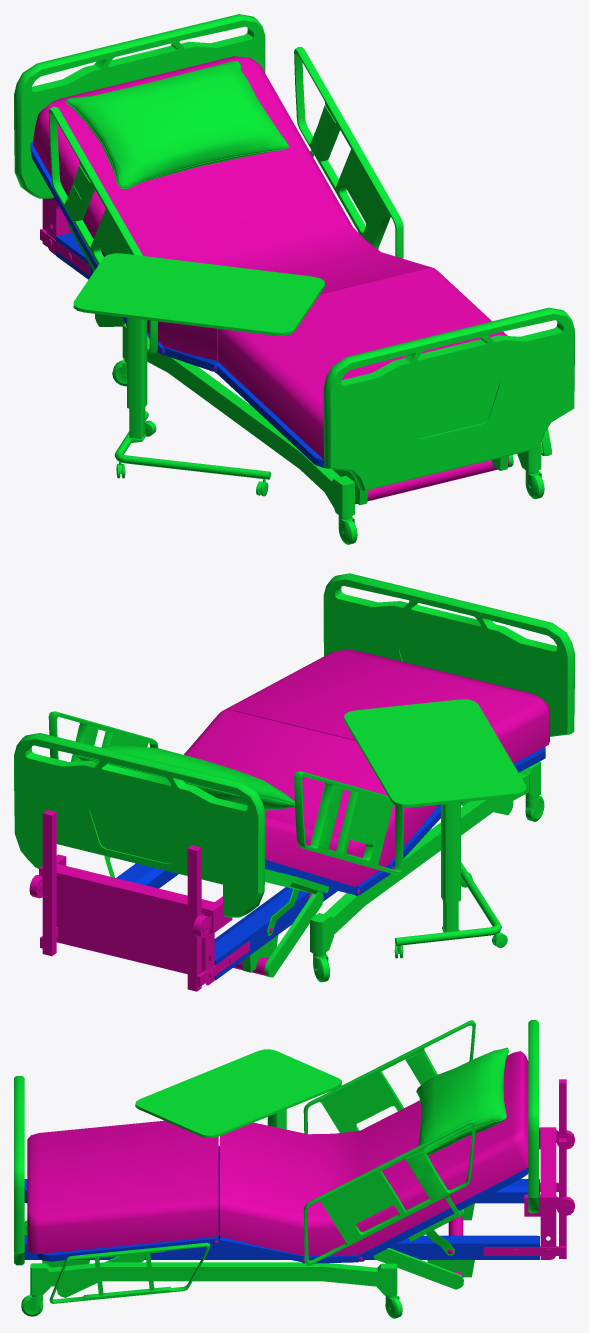
Rendered from Nursing XR_Hospital Bed_Export0.16.fbx.
The picture shows the model from 3 angles, top to bottom: view 1: azimuth 30°, elevation 25°; view 2: azimuth 150°, elevation 25°; view 3: azimuth 270°, elevation 25°; orthographic projection. The views are drawn at different scales.
Visible parts, largest first — view 1: Hospital Bed; view 2: Hospital Bed; view 3: Hospital Bed.
Part boxes in pixels (left/top/right/bottom): Hospital Bed: left=14, top=14, right=574, bottom=544; Hospital Bed: left=14, top=573, right=574, bottom=991; Hospital Bed: left=14, top=1020, right=574, bottom=1318.
Size of the model in its own units: 142 by 103 by 236.
